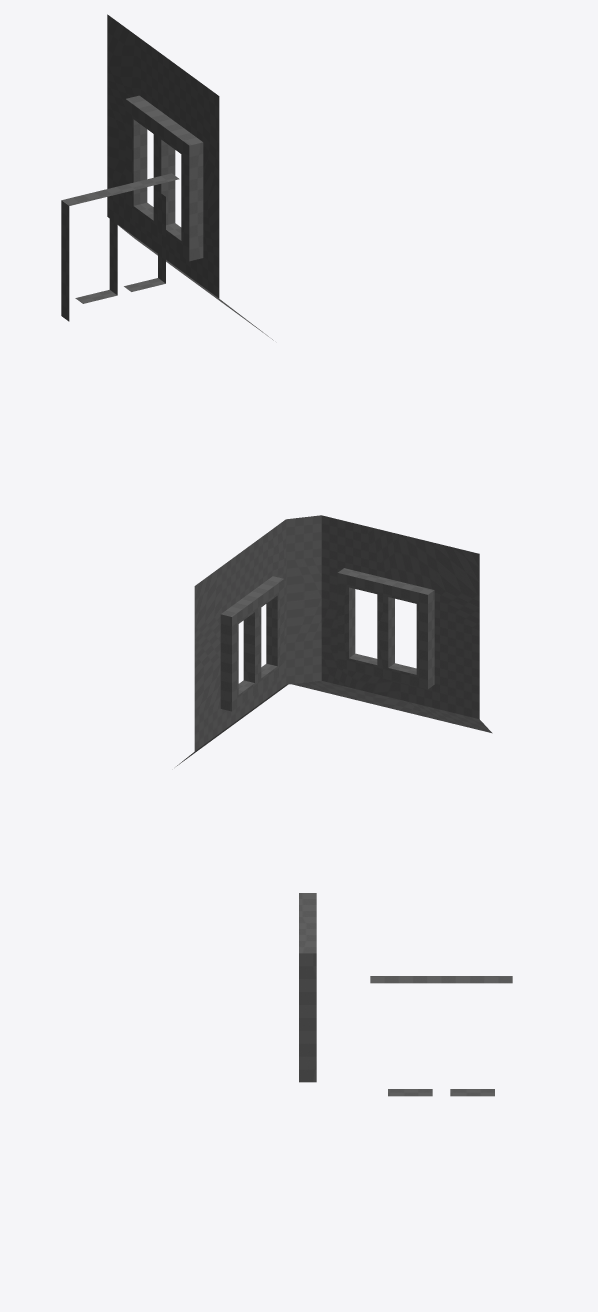
The picture shows the model from 3 angles, top to bottom: view 1: azimuth 30°, elevation 25°; view 2: azimuth 150°, elevation 25°; view 3: azimuth 270°, elevation 25°; orthographic projection. The views are drawn at different scales.
Parts seen in each view (by area): view 1: 2; view 2: 2; view 3: 2.
Boxes of the visible parts, x1,y1,x2,y2 form: 2: [61, 14, 273, 340]; 2: [176, 515, 492, 766]; 2: [299, 893, 512, 1096].
Size of the model in its own units: 4 by 2 by 4.
2 materials, 2 textured.
